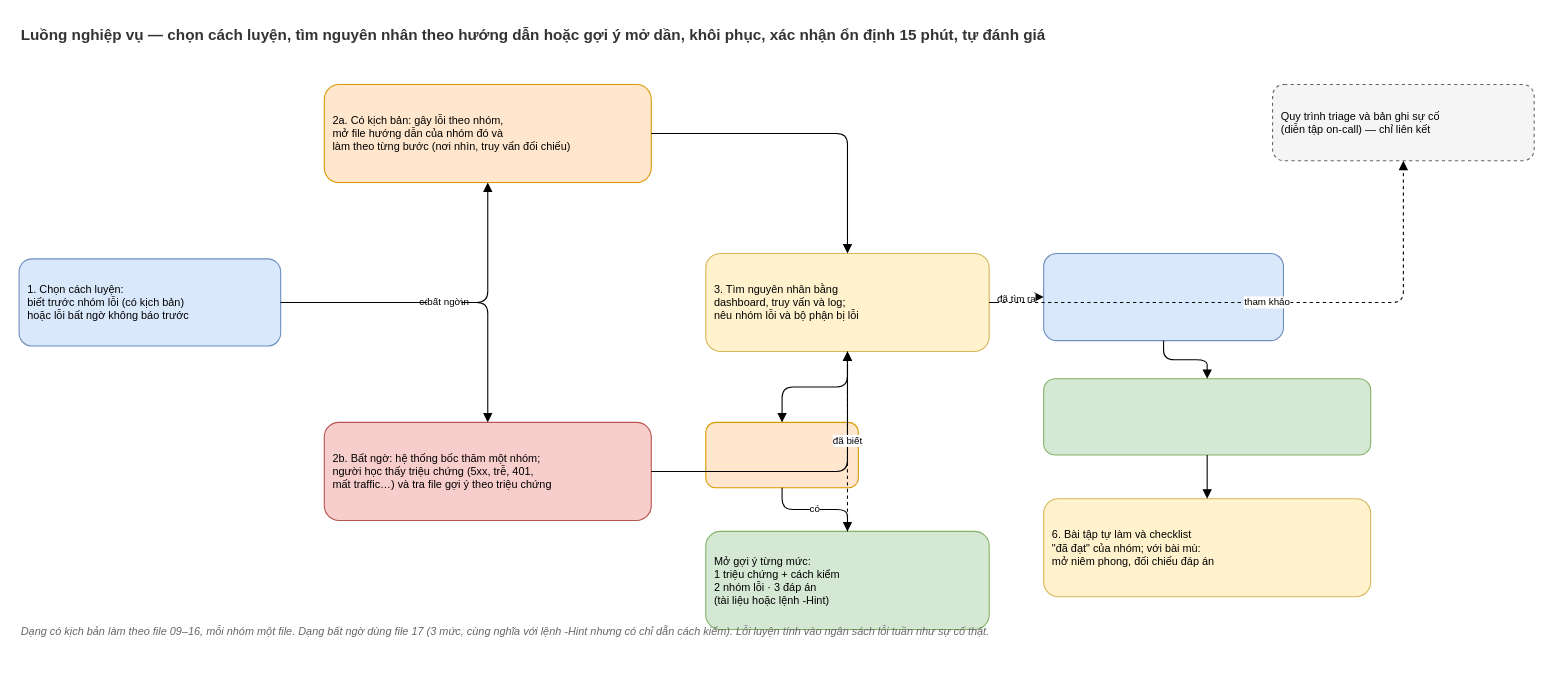
This 1553x680 diagram has some shape labels left out. The box of each missing label's shape, as (x1, y1, x2, y2) in pixels:
4. Khôi phục bằng một lệnh, chờ bộ phận bị lỗi khoẻ lại: (1043, 252, 1283, 341)
5. Xác nhận: 15 phút liên tục đạt SLO và không còn cảnh báo (truy vấn ở file 08): (1043, 378, 1371, 455)
Bế tắc?: (705, 421, 858, 488)
